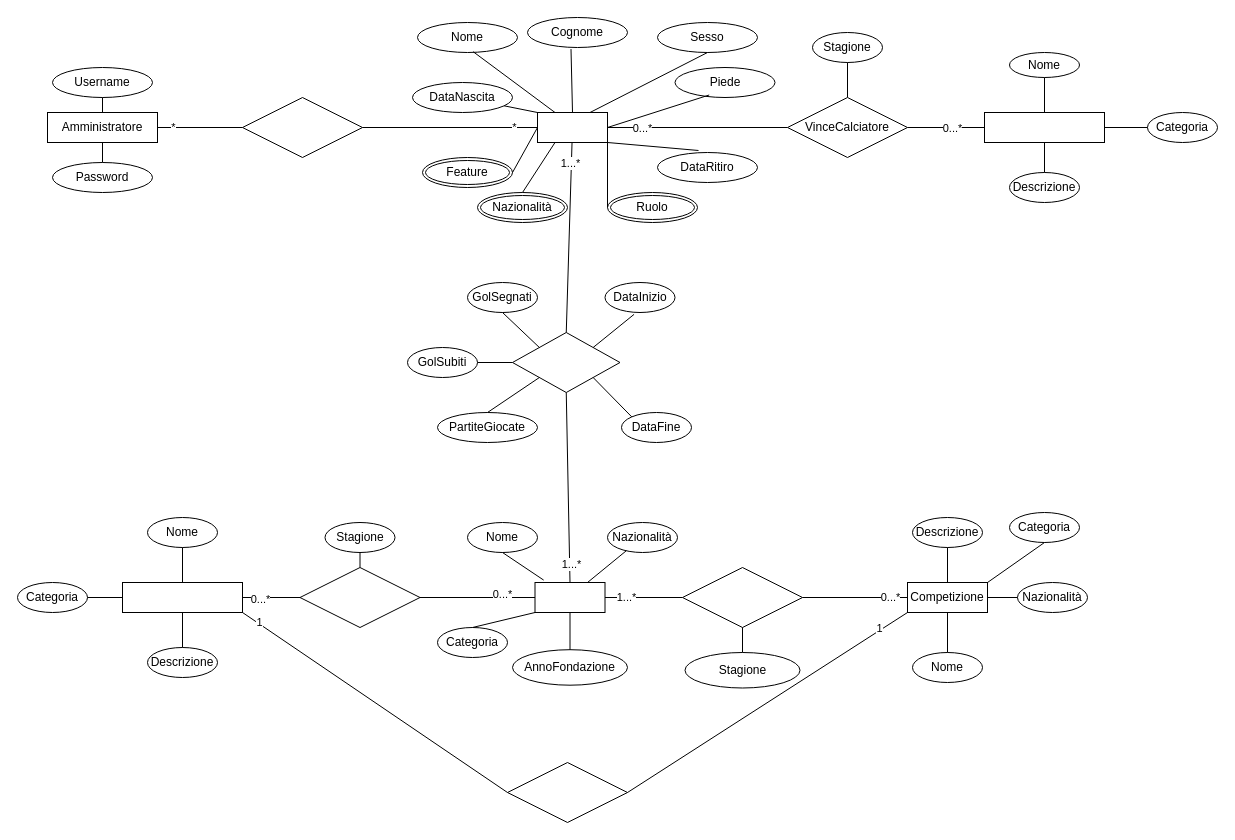
Some shapes in this 1235 by 840 pixel diagram are drawn without their labels. The shapes that lost their labels are listed below. From the top down, each one's box as (x1, y1, x2, y2) in pixels, then its label:
(242, 96, 362, 158): Gestisce
(536, 112, 608, 142): Calciatore
(984, 112, 1104, 142): TrofeoCalciatore
(512, 332, 620, 392): Militanza
(122, 582, 242, 612): TrofeoCompetizione
(299, 566, 420, 628): VinceSquadra
(534, 582, 605, 612): Squadra
(682, 566, 802, 628): Partecipa
(506, 762, 628, 822): Ha
